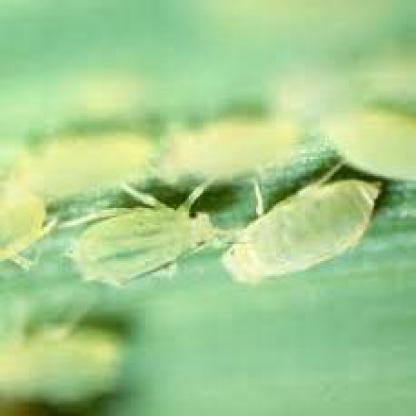schizaphis graminum: (228, 177, 383, 285), (60, 179, 213, 288)
